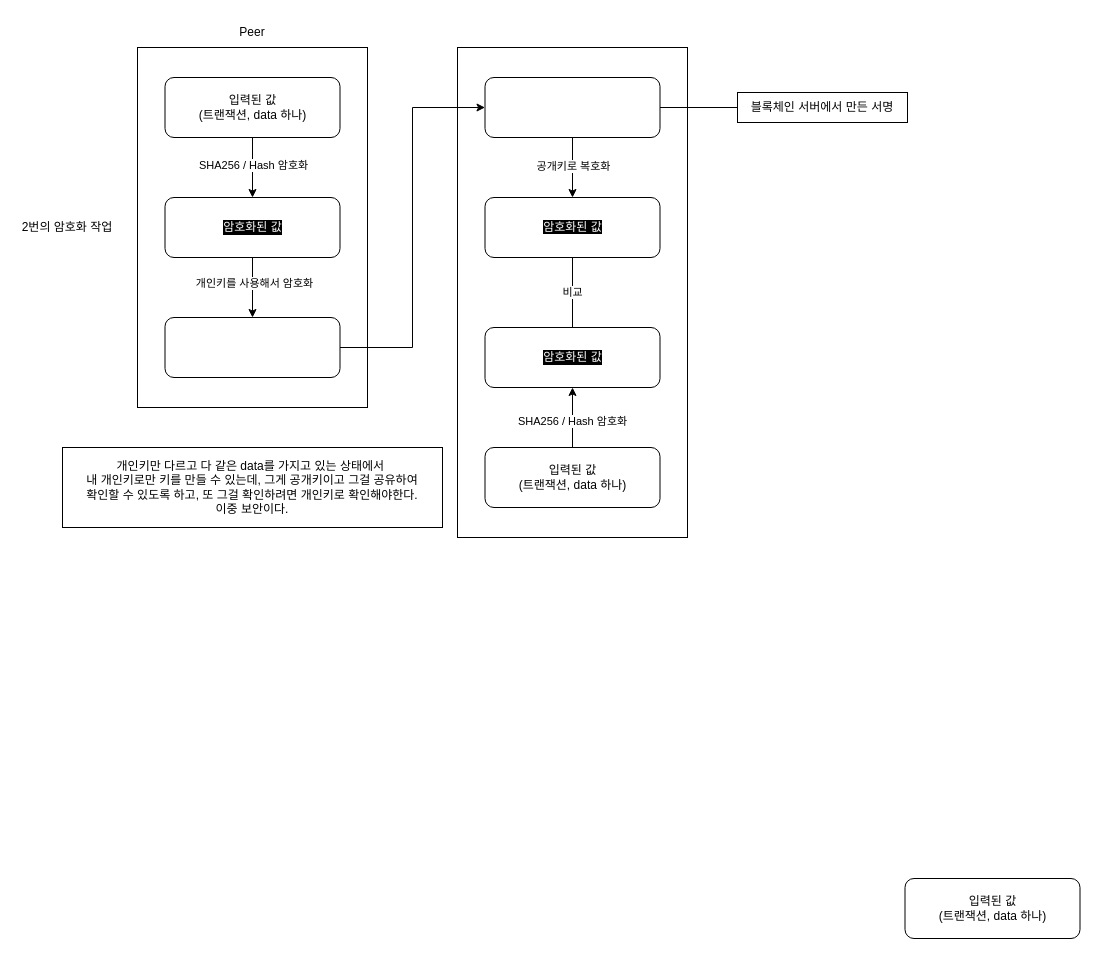
Some shapes in this 1097 by 956 pixel diagram are drawn without their labels. The centre of each missing label's shape, as x and y in pixels:
"Signature / 서명" belongs at point (252, 347).
"Signature / 서명, 공개키" belongs at point (572, 107).
